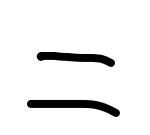eqv: (22, 47, 123, 117)
